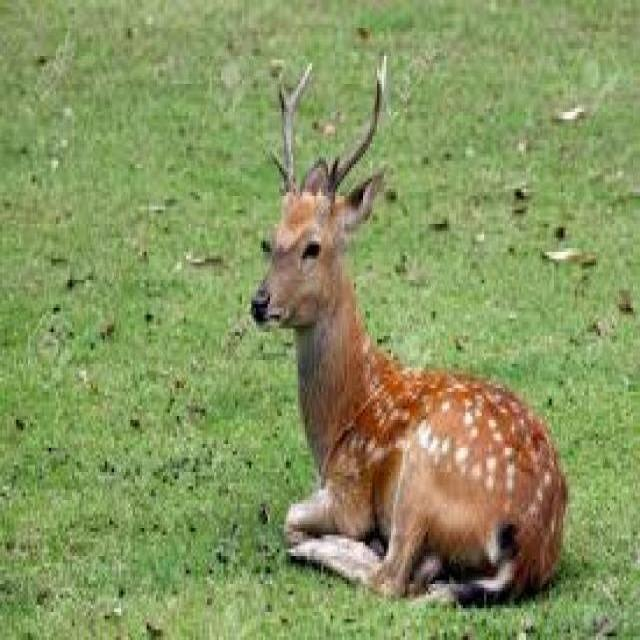deer: (230, 33, 580, 612)
